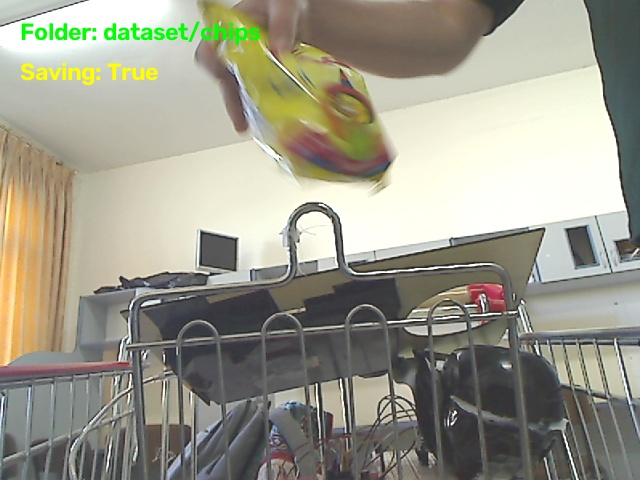chips: (199, 0, 392, 187)
